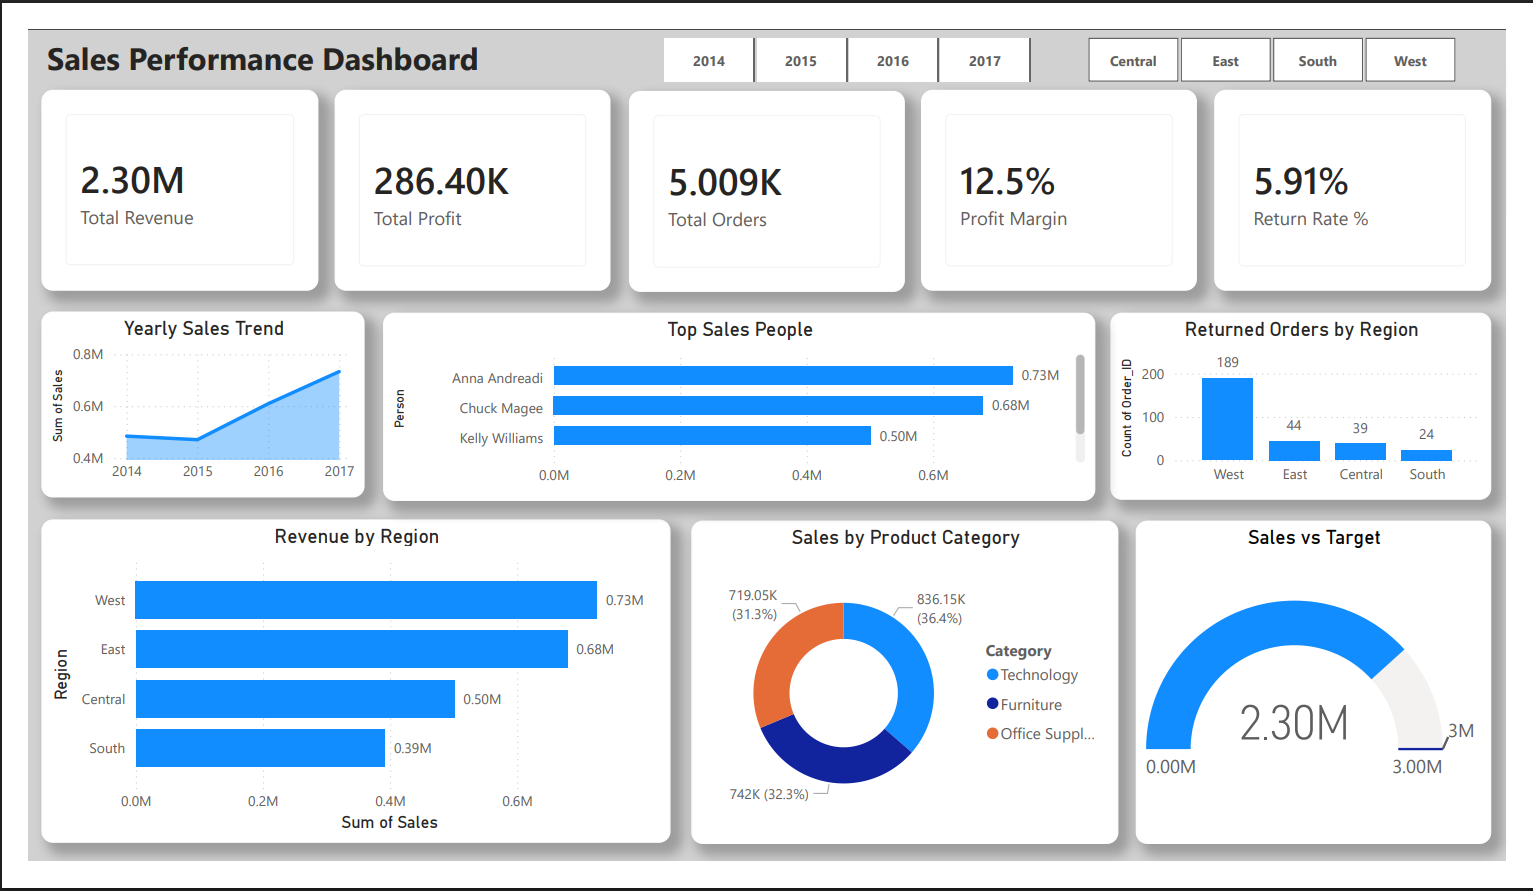

Layout of this report page (visuals, bound fields, positions):
{"tool":"powerbi","page":{"name":"Page 1","canvas":[1280,720],"ordinal":0},"visuals":[{"type":"cardVisual","fields":{"Data":["Sum(orders.Sales)"]},"box":[10.7,52.3,240,173.9],"z":0},{"type":"cardVisual","fields":{"Data":["Sum(orders.Profit)"]},"box":[264.8,51.6,239.6,174.7],"z":1000},{"type":"cardVisual","fields":{"Data":["Count(orders.Order_ID)"]},"box":[519.8,52.7,239.6,174.7],"z":2000},{"type":"cardVisual","fields":{"Data":["orders.Profit Margin"]},"box":[772.5,51.6,239.6,174.7],"z":3000},{"type":"donutChart","title":"Sales by Product Category","fields":{"Category":["orders.Category"],"Y":["Sum(orders.Sales)"]},"box":[573.6,425.3,370.3,280.2],"z":4000},{"type":"areaChart","title":"Yearly Sales Trend","fields":{"Category":["orders.Order_Date.Variation.Date Hierarchy.Year","orders.Order_Date.Variation.Date Hierarchy.Month"],"Y":["Sum(orders.Sales)"]},"box":[10.7,244.3,280.6,161.1],"z":5000},{"type":"clusteredBarChart","title":"Revenue by Region","fields":{"Category":["orders.Region"],"Y":["Sum(orders.Sales)"]},"box":[11,424.2,545.1,280.2],"z":6000},{"type":"clusteredColumnChart","title":"Returned Orders by Region","fields":{"Category":["orders.Region"],"Y":["Count(returns.Order_ID)"]},"box":[937.4,245.1,329.7,161.5],"z":7000},{"type":"clusteredBarChart","title":"Top Sales People","fields":{"Category":["people.Person"],"Y":["Sum(orders.Sales)"]},"box":[306.6,245.1,617.6,162.6],"z":8000},{"type":"cardVisual","title":"Return Rate","fields":{"Data":["orders.Return Rate %"]},"box":[1027.5,51.6,239.6,174.7],"z":9000},{"type":"gauge","title":"Sales vs Target","fields":{"Y":["Sum(orders.Sales)"],"TargetValue":["orders.Sales Target"]},"box":[959.3,425.3,307.7,280.2],"z":10000},{"type":"textbox","box":[10.9,1.1,527.2,52.2],"z":11000},{"type":"slicer","fields":{"Values":["orders.Order_Date.Variation.Date Hierarchy.Year"]},"box":[525,0,367.4,52.2],"z":12000},{"type":"slicer","fields":{"Values":["orders.Region"]},"box":[892.4,0,367.4,52.2],"z":12001}]}

Visuals, with their boxes on the page's 1280x720 design canvas (x1, y1, x2, y2). These are canvas units, not pixel positions in the 1533x891 screenshot, which may show the page scaled, cropped or inside an application window:
cardVisual - Sum(orders.Sales): {"left": 11, "top": 52, "right": 251, "bottom": 226}
cardVisual - Sum(orders.Profit): {"left": 265, "top": 52, "right": 504, "bottom": 226}
cardVisual - Count(orders.Order_ID): {"left": 520, "top": 53, "right": 759, "bottom": 227}
cardVisual - orders.Profit Margin: {"left": 772, "top": 52, "right": 1012, "bottom": 226}
"Sales by Product Category" donutChart: {"left": 574, "top": 425, "right": 944, "bottom": 706}
"Yearly Sales Trend" areaChart: {"left": 11, "top": 244, "right": 291, "bottom": 405}
"Revenue by Region" clusteredBarChart: {"left": 11, "top": 424, "right": 556, "bottom": 704}
"Returned Orders by Region" clusteredColumnChart: {"left": 937, "top": 245, "right": 1267, "bottom": 407}
"Top Sales People" clusteredBarChart: {"left": 307, "top": 245, "right": 924, "bottom": 408}
"Return Rate" cardVisual: {"left": 1028, "top": 52, "right": 1267, "bottom": 226}
"Sales vs Target" gauge: {"left": 959, "top": 425, "right": 1267, "bottom": 706}
textbox: {"left": 11, "top": 1, "right": 538, "bottom": 53}
slicer - orders.Order_Date.Variation.Date Hierarchy.Year: {"left": 525, "top": 0, "right": 892, "bottom": 52}
slicer - orders.Region: {"left": 892, "top": 0, "right": 1260, "bottom": 52}
